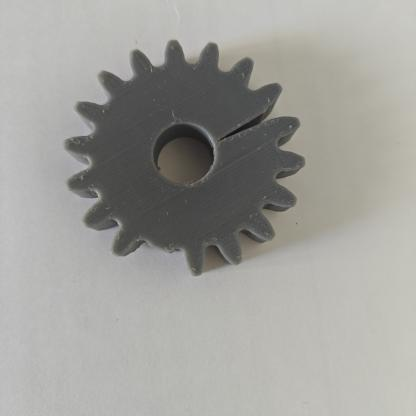defect: (178, 72, 307, 174), (108, 211, 198, 278)
gear: (53, 28, 326, 299)
